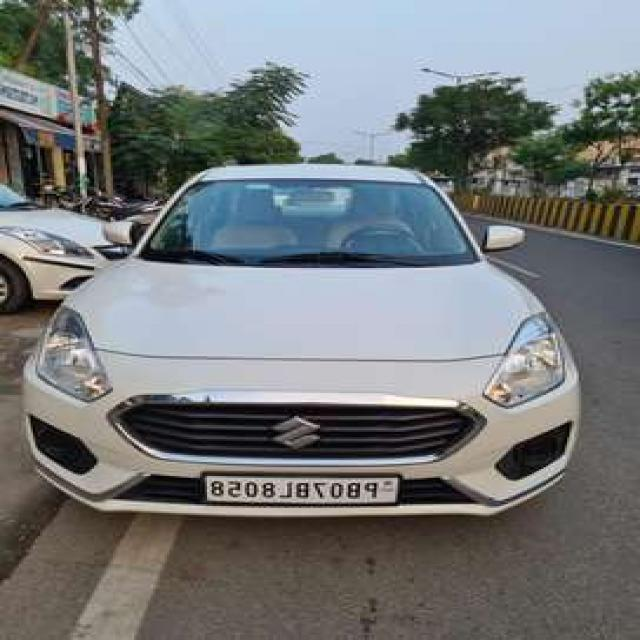license_plate: (193, 468, 413, 515)
